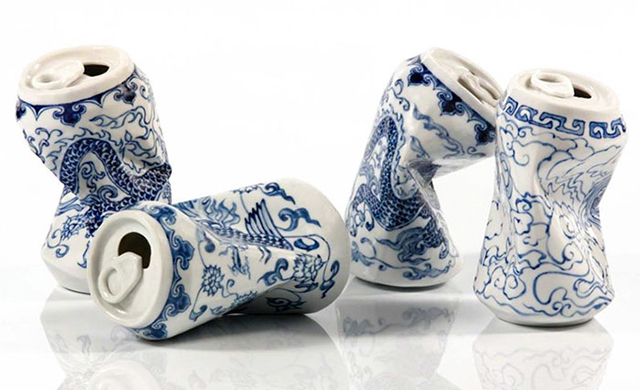can: (87, 177, 353, 342), (473, 65, 629, 329), (17, 45, 174, 296), (345, 45, 505, 291)
